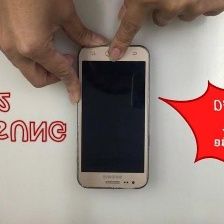phone: (72, 40, 154, 193)
